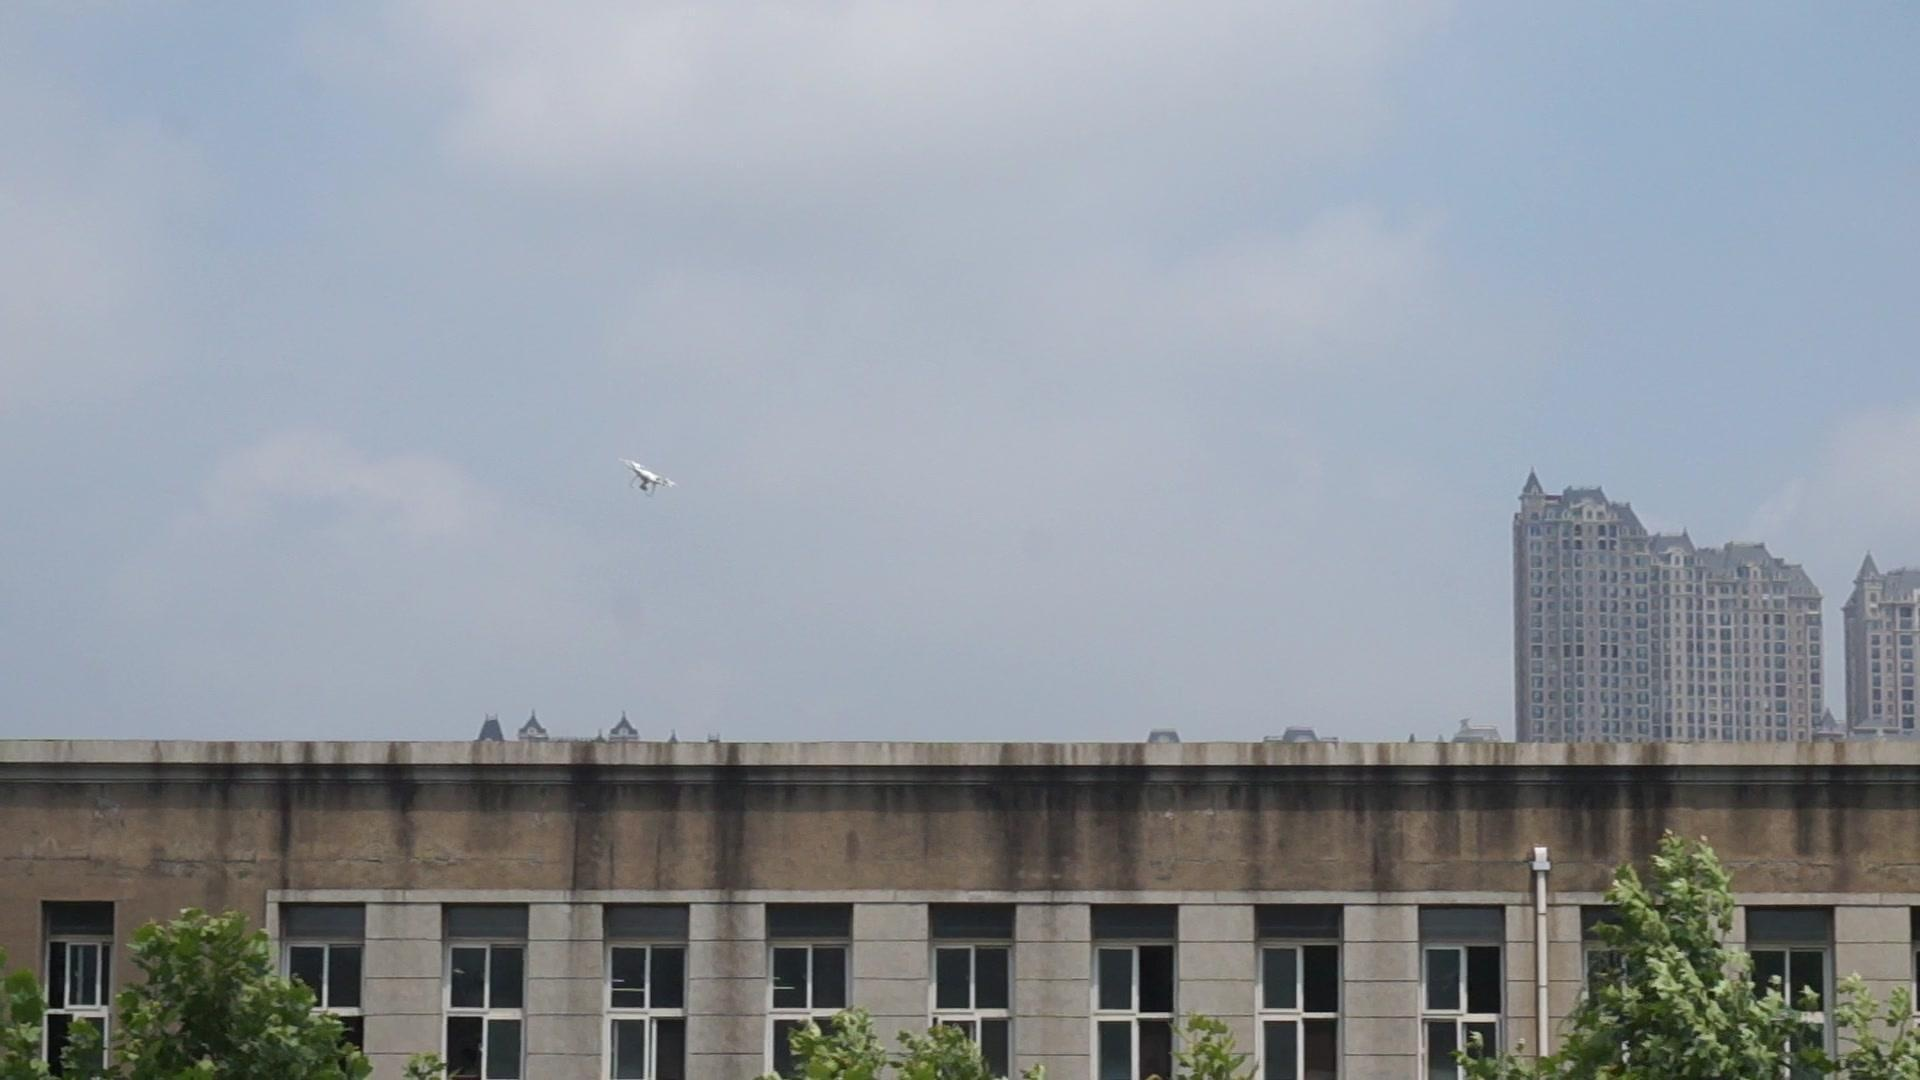UAV: (625, 460, 680, 498)
